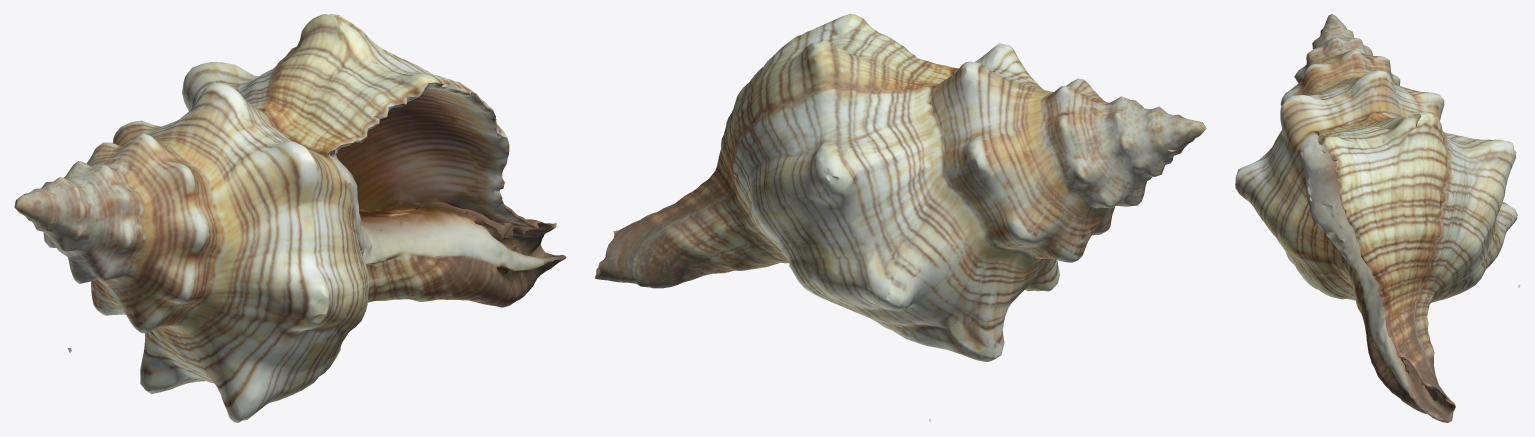
The model's file is conch-shell.glb.
3 renders of one model, left to right at view 1: azimuth 30°, elevation 25°; view 2: azimuth 150°, elevation 25°; view 3: azimuth 270°, elevation 25°, orthographic. The views are drawn at different scales.
Parts seen in each view (by area): view 1: Object_2; view 2: Object_2; view 3: Object_2.
Boxes of the visible parts, x1,y1,x2,y2 form: Object_2: (14,14,566,422); Object_2: (595,14,1206,421); Object_2: (1235,14,1520,422).
Size of the model in its own units: 0.2057 by 0.1067 by 0.1136.
Materials: 1 (1 with a texture image).
